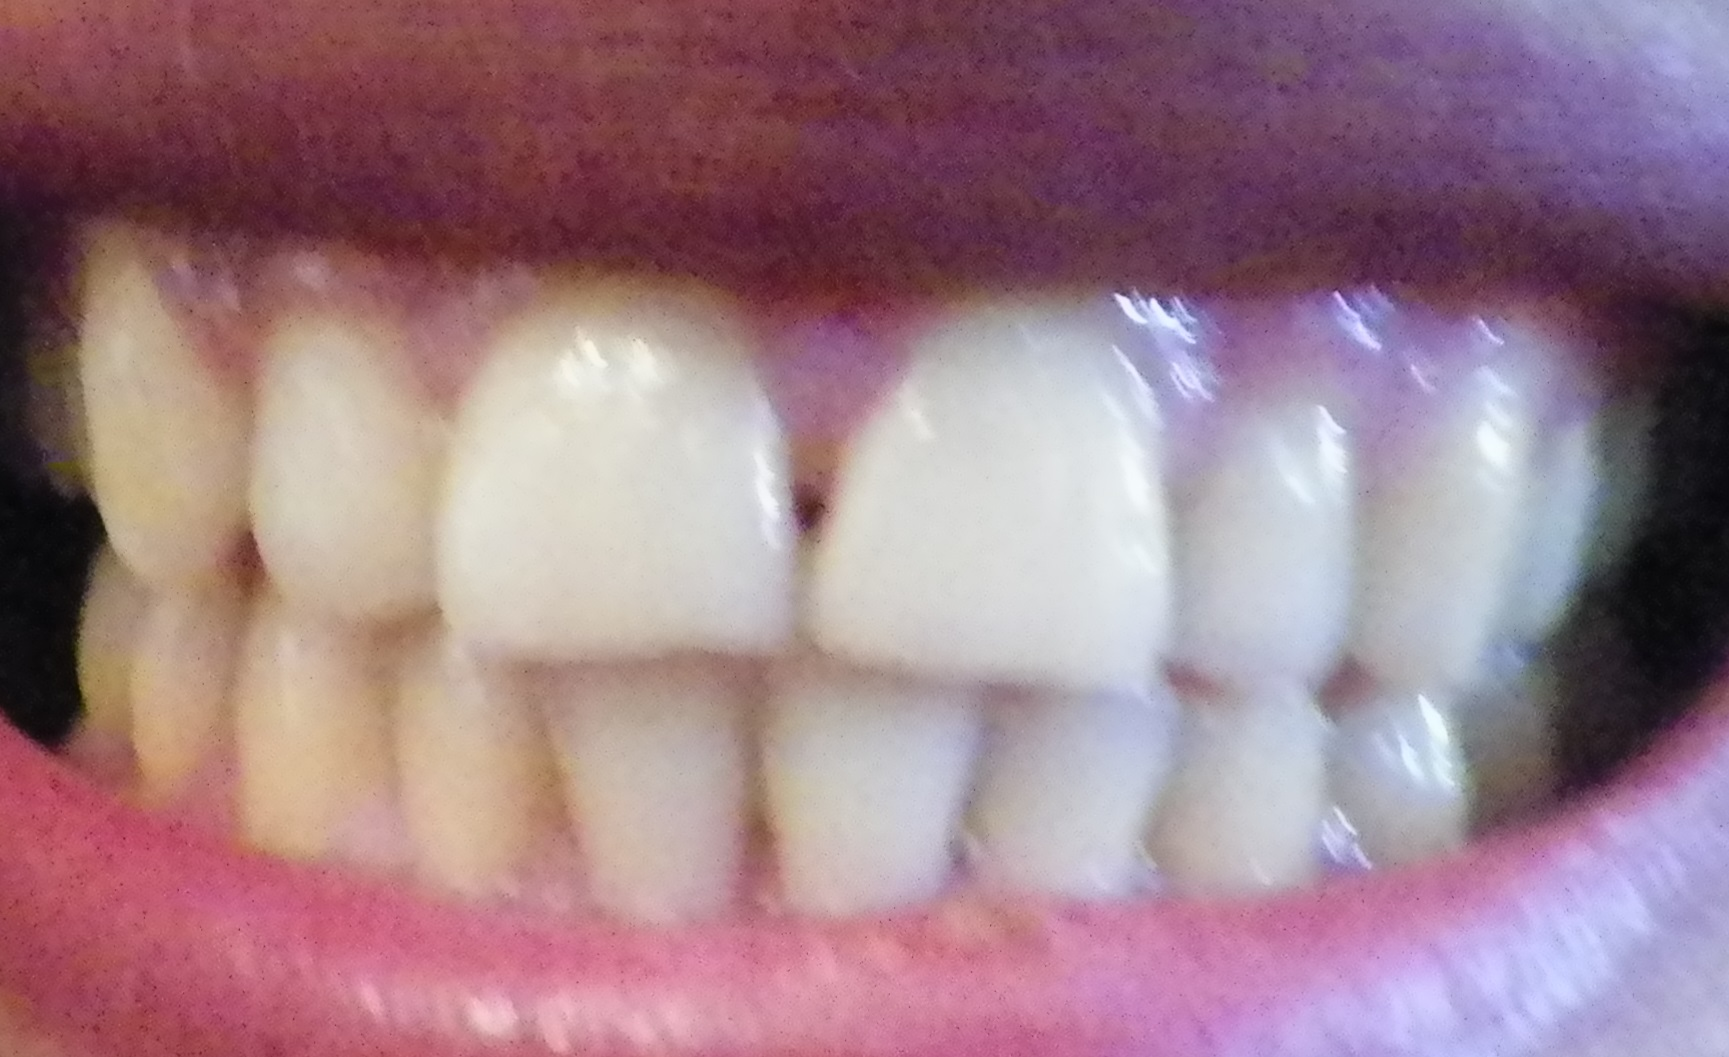boca: (26, 216, 1646, 910)
